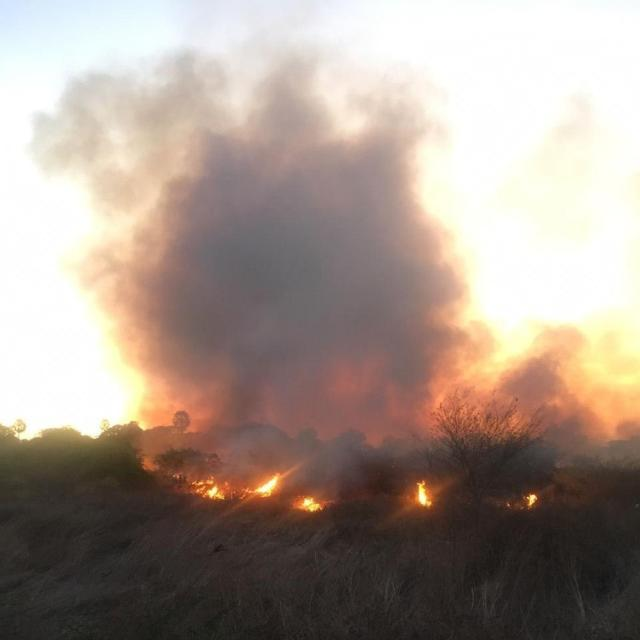Fire: (250, 461, 284, 497), (188, 467, 224, 499), (410, 472, 440, 504), (297, 490, 330, 514)
Smoke: (51, 0, 474, 458)
